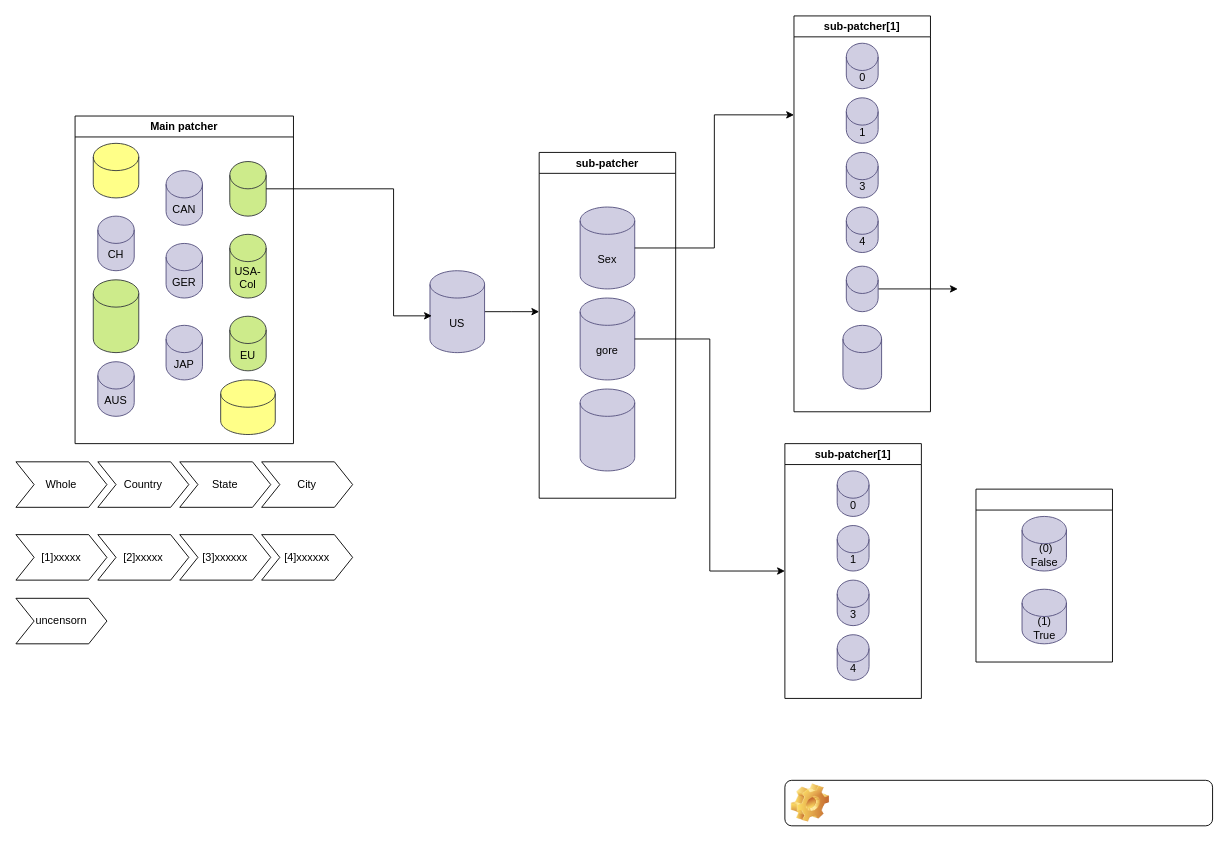
Some shapes in this 1229 by 842 pixel diagram are drawn without their labels. Here are the shapes that lost their labels. From the top down, the box of each, then its label:
(92, 142, 139, 198): Defoult
(229, 161, 266, 216): USA
(845, 265, 878, 312): Loli
(92, 279, 139, 353): Meddle East
(842, 324, 882, 389): Flat breast
(220, 379, 275, 435): Uncensor
(579, 388, 635, 471): Culture
(975, 488, 1112, 662): sub-patcher[2]
(784, 779, 1213, 826): /patch(main)USA, (sub)sex, (sub[1])
